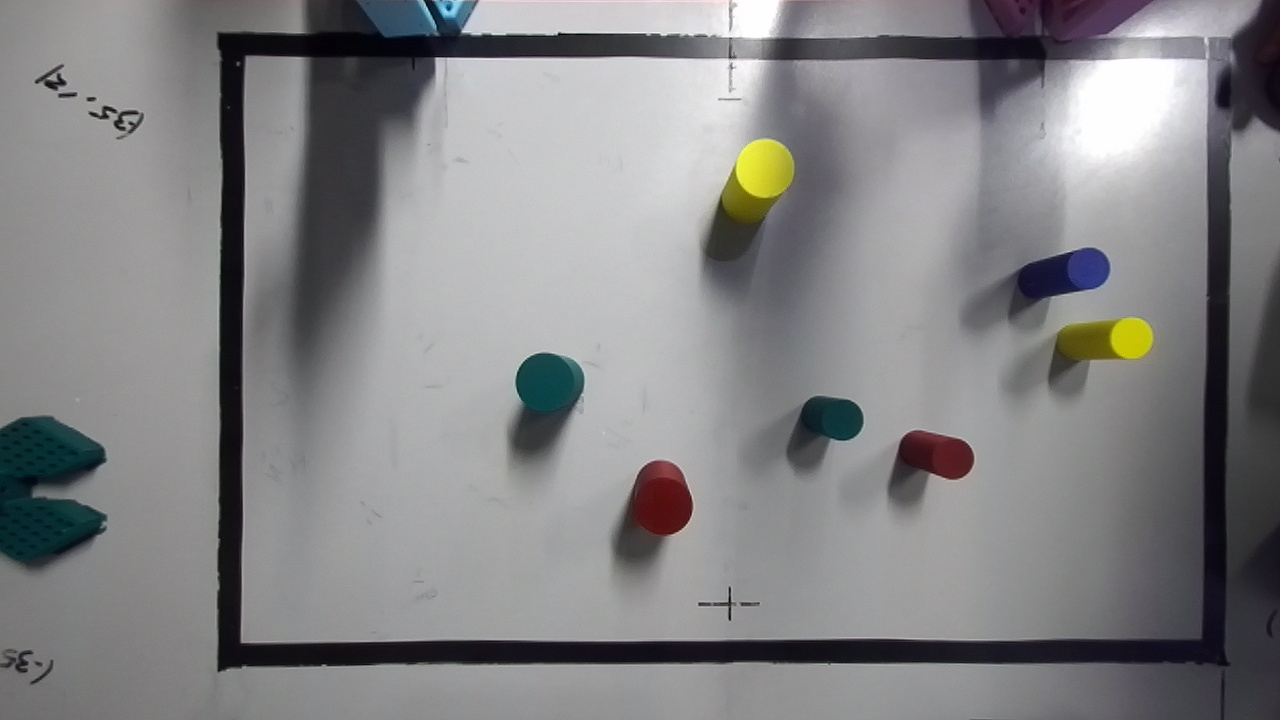cylinder: (721, 138, 794, 222), (1017, 247, 1109, 299), (632, 460, 692, 535), (1055, 317, 1152, 359), (515, 353, 583, 412), (897, 430, 973, 478), (800, 396, 863, 440)
